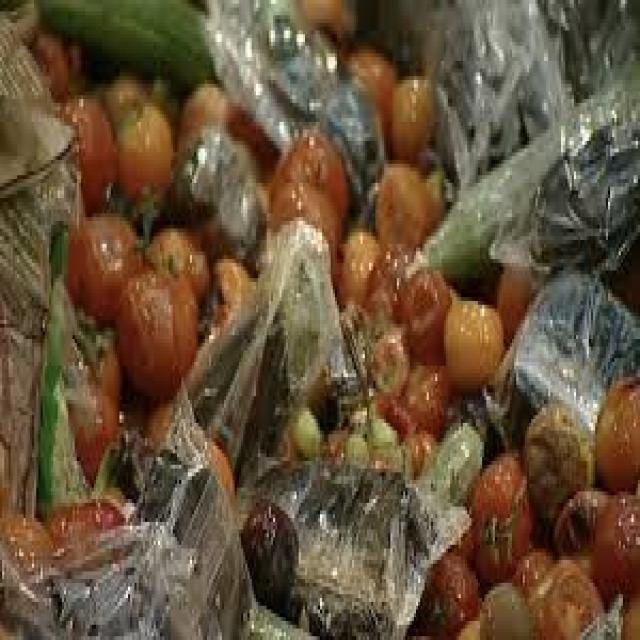cardboard: (1, 0, 637, 638)
